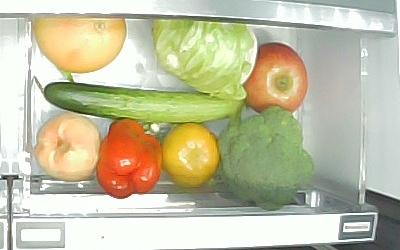apple: (244, 41, 310, 114)
broccoli: (218, 106, 316, 212)
cucumber: (34, 75, 246, 122)
grapefruit: (32, 18, 127, 74)
lettuce: (150, 19, 258, 98)
paprika: (97, 118, 162, 199)
peach: (34, 113, 100, 182)
persimmon: (162, 123, 220, 188)
